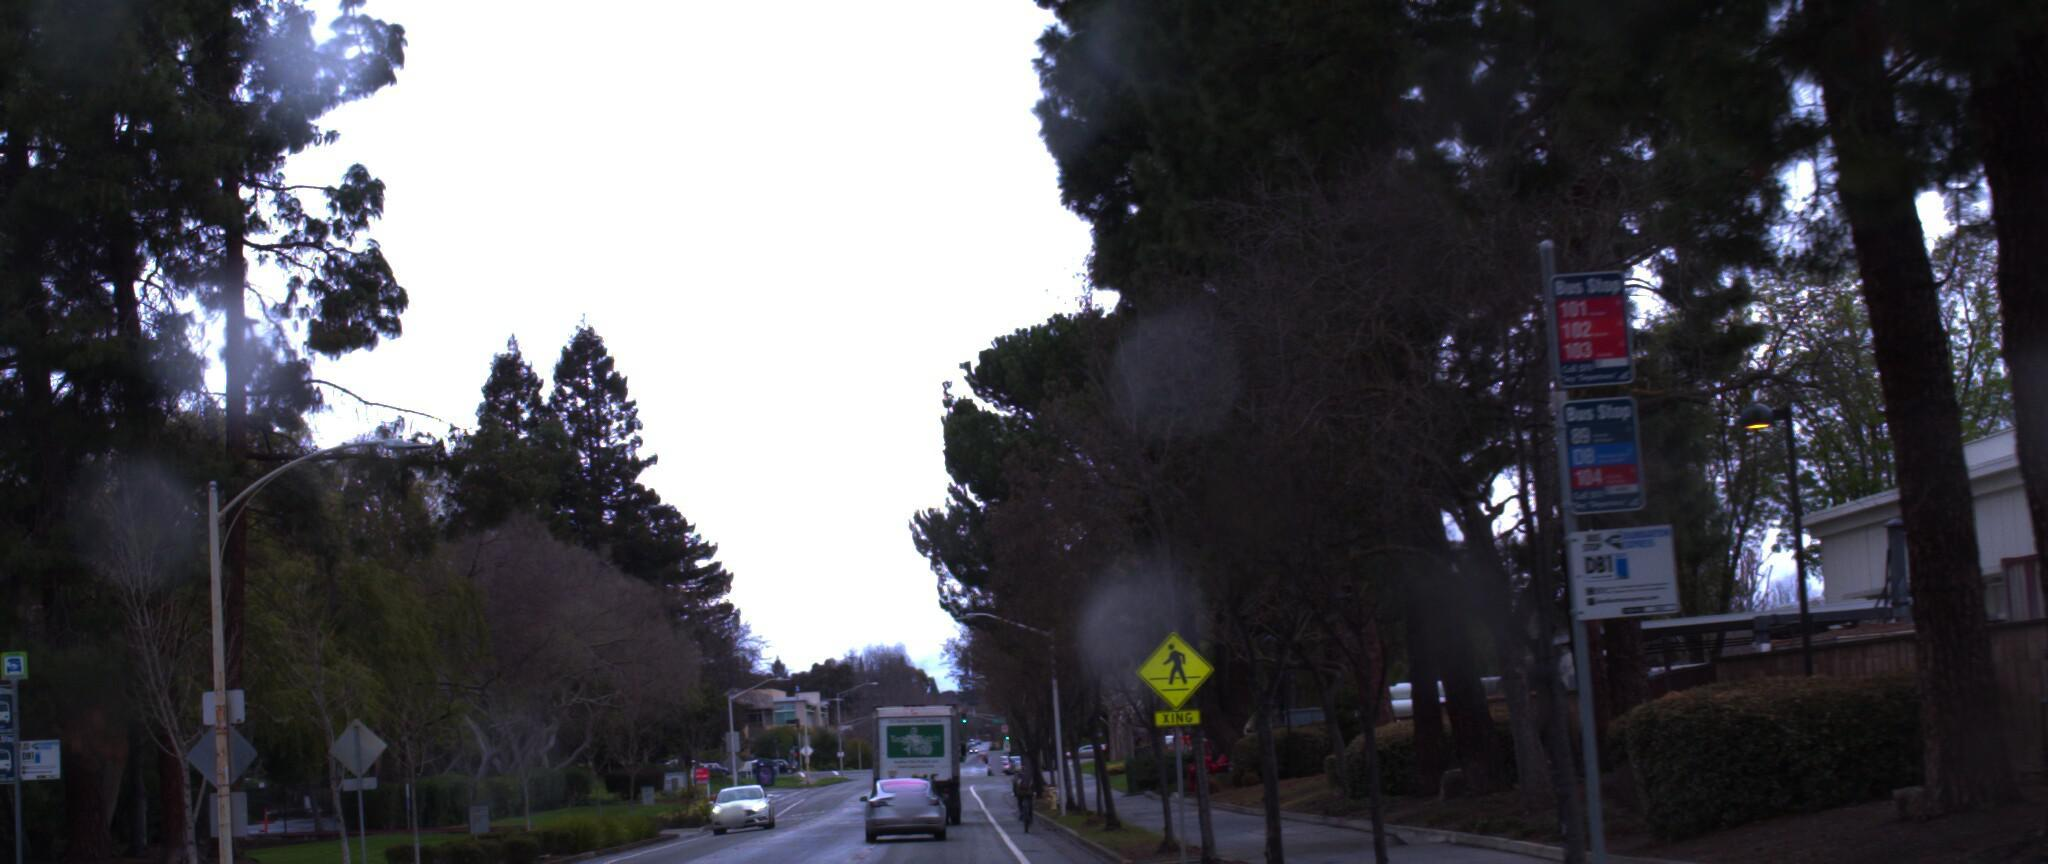car: (863, 764, 951, 841)
